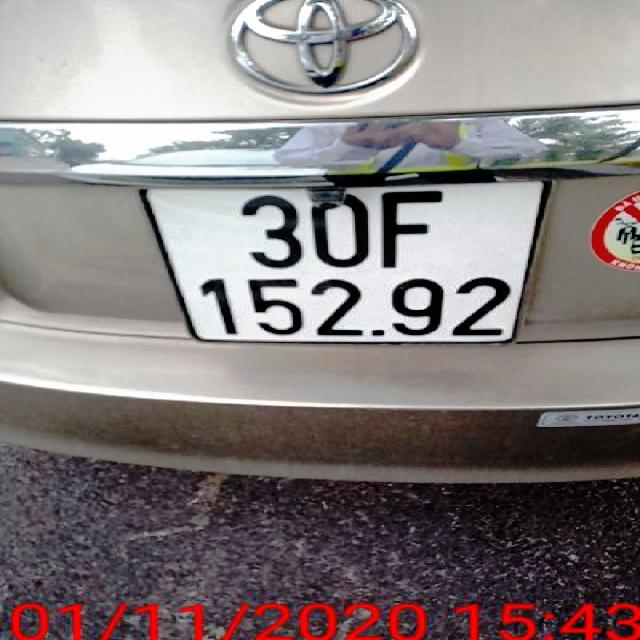license_plate: (143, 179, 549, 344)
